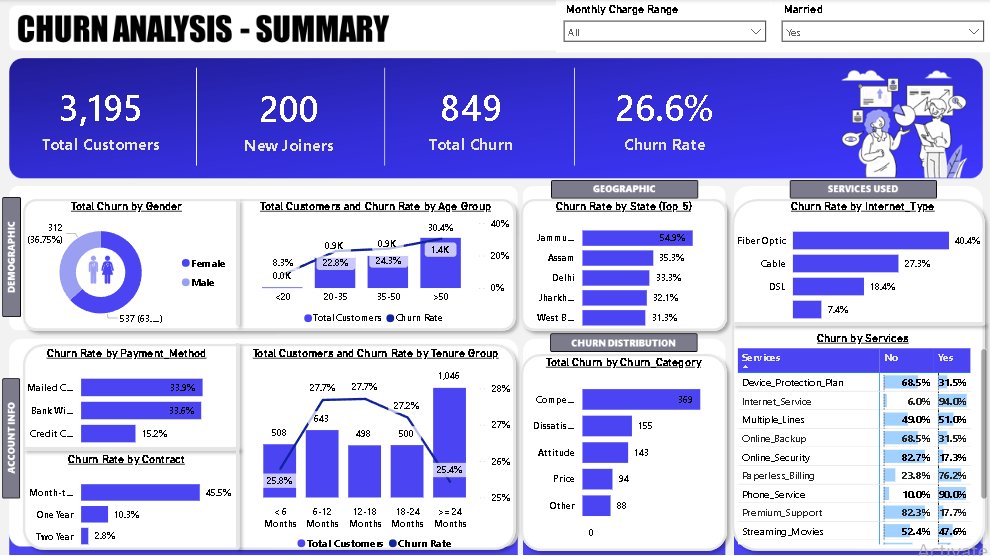

This screenshot's page, from the dashboard's own definition file:
{"tool":"powerbi","page":{"name":"Summary","canvas":[1280,720],"ordinal":0},"visuals":[{"type":"shape","box":[935.6,248.6,344.4,472],"z":0},{"type":"shape","box":[663.2,448.5,283.8,272.1],"z":1000},{"type":"shape","box":[663.5,248.6,283.9,188.1],"z":2000},{"type":"shape","box":[20.2,248.7,653.5,188],"z":3000},{"type":"shape","box":[20.6,436.3,653.8,283.5],"z":4000},{"type":"cardVisual","fields":{"Data":["Measures_Table.Total Customers"]},"box":[13.4,84,235.2,139.4],"z":5000},{"type":"cardVisual","fields":{"Data":["Measures_Table.New Joiners"]},"box":[255.3,85.7,235.2,139.4],"z":6000},{"type":"cardVisual","fields":{"Data":["Measures_Table.Total Churn"]},"box":[490.5,84,235.2,139.4],"z":7000},{"type":"cardVisual","fields":{"Data":["Measures_Table.Churn Rate"]},"box":[740.8,84,235,139],"z":8000},{"type":"lineStackedColumnComboChart","fields":{"Category":["Mapping_Age_Group.Age Group"],"Y":["Measures_Table.Total Customers"],"Y2":["Measures_Table.Churn Rate"]},"box":[305.9,258.8,357.4,170.6],"z":9000},{"type":"donutChart","fields":{"Y":["Measures_Table.Total Churn"],"Category":["Customer_Data.Gender"]},"box":[20.6,258.8,285.3,170.6],"z":10000},{"type":"clusteredBarChart","fields":{"Category":["Customer_Data.Payment_Method"],"Y":["Measures_Table.Churn Rate"]},"box":[20.6,448.5,285.3,141.2],"z":11000},{"type":"clusteredBarChart","fields":{"Y":["Measures_Table.Churn Rate"],"Category":["Customer_Data.Contract"]},"box":[25.8,585.8,285.2,134.2],"z":12000},{"type":"lineStackedColumnComboChart","fields":{"Y":["Measures_Table.Total Customers"],"Y2":["Measures_Table.Churn Rate"],"Category":["Mapping_TenureGroup.Tenure Group"]},"box":[307.1,447.7,357.4,272.3],"z":13000},{"type":"clusteredBarChart","title":"Churn Rate by State (Top 5)","fields":{"Category":["Customer_Data.State"],"Y":["Measures_Table.Churn Rate"]},"box":[673.5,258.8,261.8,177.9],"z":14000},{"type":"image","box":[94.1,325,72.1,47.1],"z":15000},{"type":"clusteredBarChart","fields":{"Y":["Measures_Table.Total Churn"],"Category":["Customer_Data.Churn_Category"]},"box":[673.5,460.3,261.8,260.3],"z":16000},{"type":"clusteredBarChart","fields":{"Y":["Measures_Table.Churn Rate"],"Category":["Customer_Data.Internet_Type"]},"box":[947.1,258.8,332.4,170.6],"z":17000},{"type":"pivotTable","title":"Churn by Services","fields":{"Rows":["Services_Table.Services"],"Columns":["Services_Table.Status"],"Values":["Sum(Services_Table.Churn Status)"]},"box":[947.1,429.4,332.4,279.4],"z":18000},{"type":"shape","box":[20.6,569.1,297.1,22.1],"z":19000},{"type":"shape","box":[935.3,407.4,344.1,22.1],"z":20000},{"type":"shape","box":[295.6,248.5,22.1,180.9],"z":21000},{"type":"shape","box":[305.8,436.1,21.9,283.9],"z":22000},{"type":"slicer","fields":{"Values":["Customer_Data.Monthly Charge Status"]},"box":[717.6,0,280.9,69.1],"z":23000},{"type":"slicer","fields":{"Values":["Customer_Data.Married"]},"box":[998.5,0,280.9,69.1],"z":24000}]}

Visuals, with their boxes in screenshot pixels (x1, y1, x2, y2), scaled from the page's 1280x720 canvas onto the 990x556 screenshot:
shape: bbox(724, 192, 989, 555)
shape: bbox(513, 346, 732, 555)
shape: bbox(513, 192, 733, 337)
shape: bbox(16, 192, 521, 337)
shape: bbox(16, 337, 522, 555)
cardVisual - Measures_Table.Total Customers: bbox(10, 65, 192, 173)
cardVisual - Measures_Table.New Joiners: bbox(197, 66, 379, 174)
cardVisual - Measures_Table.Total Churn: bbox(379, 65, 561, 173)
cardVisual - Measures_Table.Churn Rate: bbox(573, 65, 755, 172)
lineStackedColumnComboChart - Mapping_Age_Group.Age Group x Measures_Table.Total Customers: bbox(237, 200, 513, 332)
donutChart - Measures_Table.Total Churn x Customer_Data.Gender: bbox(16, 200, 237, 332)
clusteredBarChart - Customer_Data.Payment_Method x Measures_Table.Churn Rate: bbox(16, 346, 237, 455)
clusteredBarChart - Measures_Table.Churn Rate x Customer_Data.Contract: bbox(20, 452, 241, 555)
lineStackedColumnComboChart - Measures_Table.Total Customers x Measures_Table.Churn Rate: bbox(238, 346, 514, 555)
"Churn Rate by State (Top 5)" clusteredBarChart: bbox(521, 200, 723, 337)
image: bbox(73, 251, 129, 287)
clusteredBarChart - Measures_Table.Total Churn x Customer_Data.Churn_Category: bbox(521, 355, 723, 555)
clusteredBarChart - Measures_Table.Churn Rate x Customer_Data.Internet_Type: bbox(733, 200, 989, 332)
"Churn by Services" pivotTable: bbox(733, 332, 989, 547)
shape: bbox(16, 439, 246, 457)
shape: bbox(723, 315, 989, 332)
shape: bbox(229, 192, 246, 332)
shape: bbox(237, 337, 253, 555)
slicer - Customer_Data.Monthly Charge Status: bbox(555, 0, 772, 53)
slicer - Customer_Data.Married: bbox(772, 0, 989, 53)
